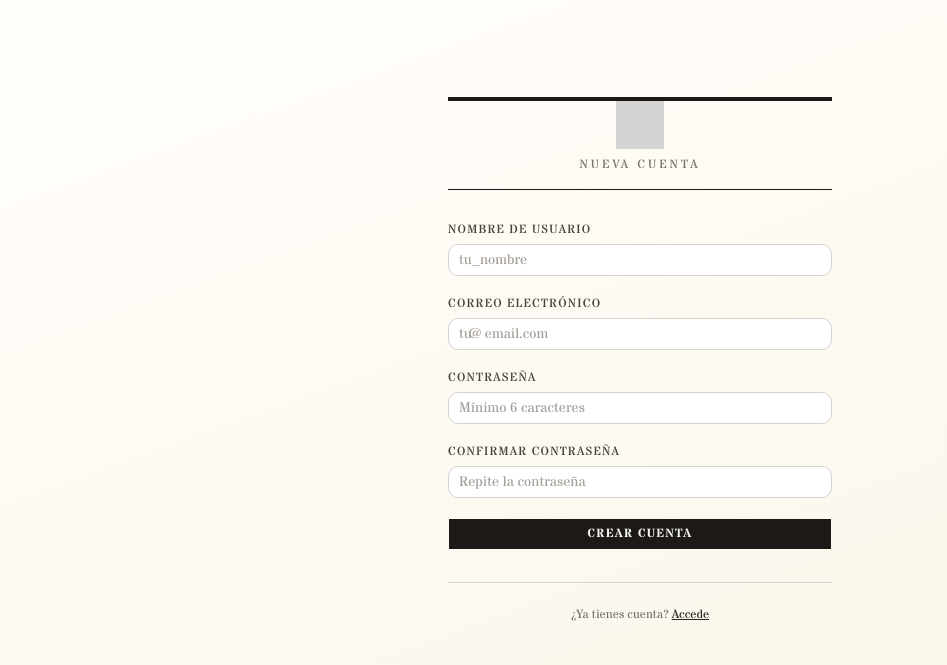
Test: Register › shows error when passwords do not match
In the field with placeholder "tu_nombre": (640, 260) [448,244,832,276], type "usuario"
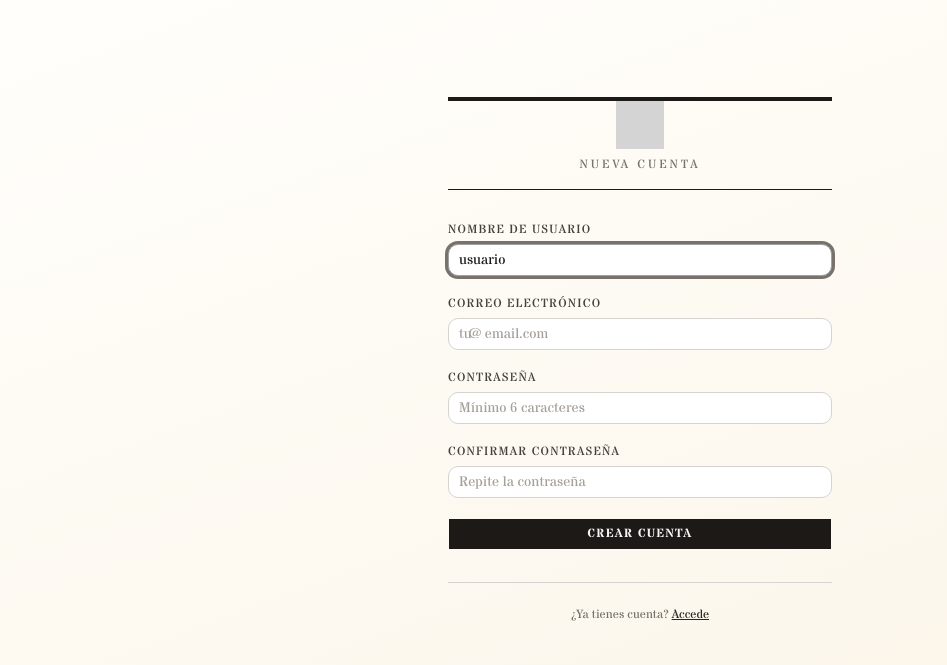
In the field with placeholder "tu@email.com": (640, 334) [448,318,832,350], type "user@test.com"
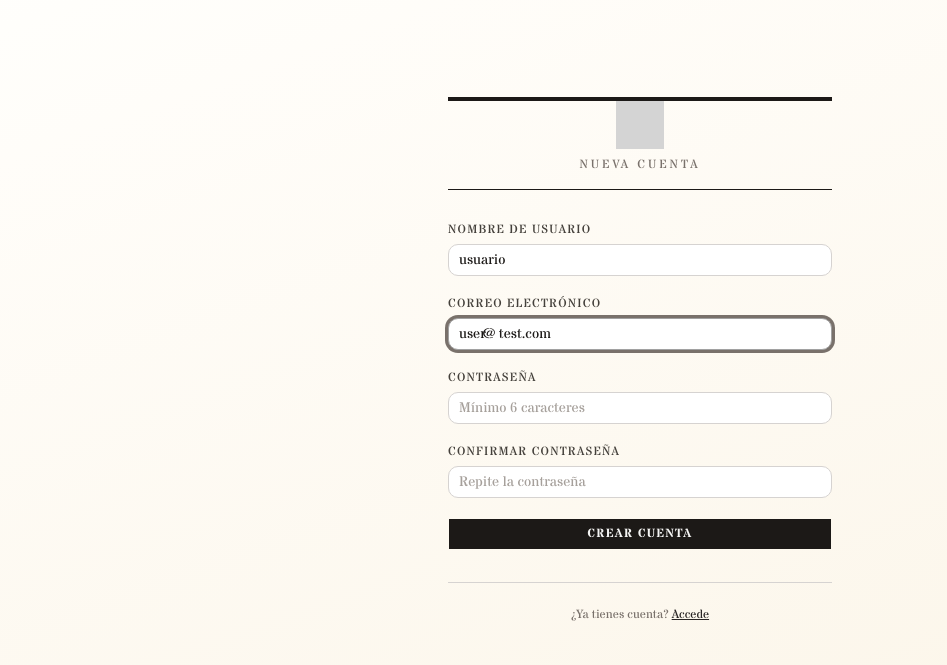
In the password field with placeholder "Mínimo 6 caracteres": (640, 408) [448,392,832,424], type "password123"
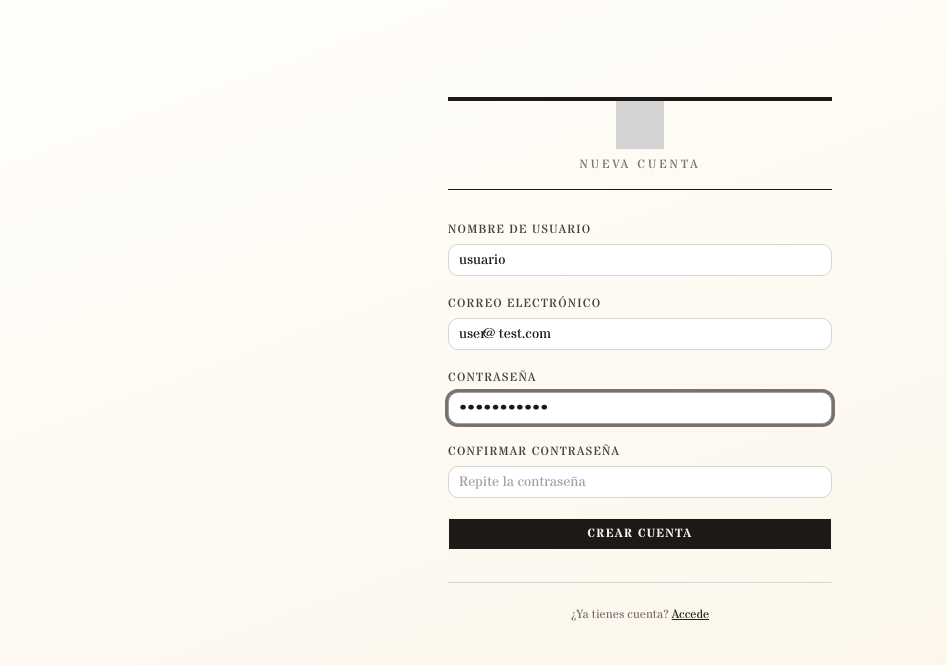
In the password field with placeholder "Repite la contraseña": (640, 482) [448,466,832,498], type "different"
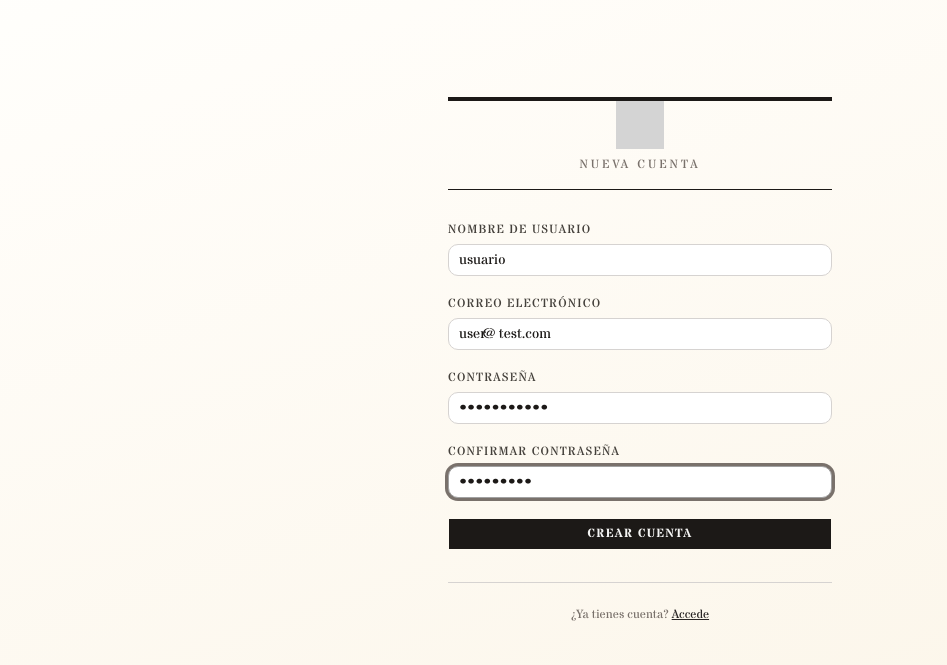
Click the button "Crear cuenta": (640, 534) [448,518,832,550]
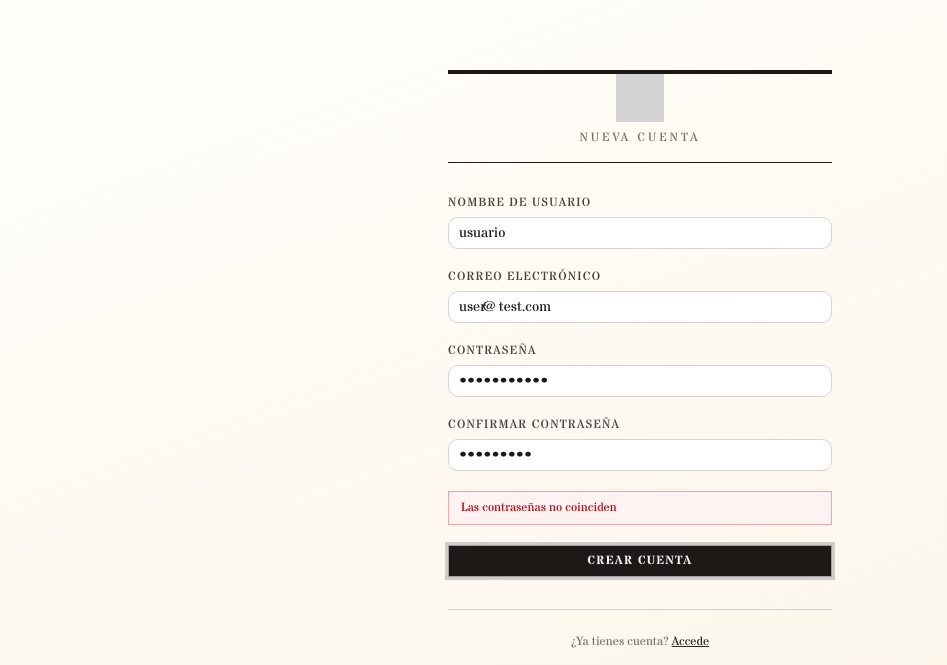
Expected: the text "Las contraseñas no coinciden" is shown, [448,491,832,525]
